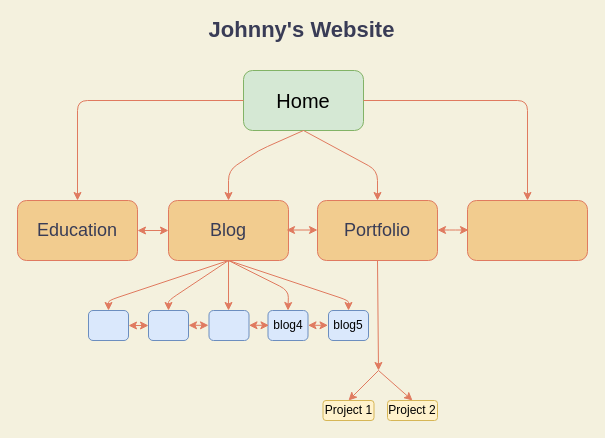
This 605x438 diagram has some shape labels left out. The centre of each missing label's shape, as x and y in pixels:
"blog1" belongs at (108,325).
"blog2" belongs at (168,325).
"blog3" belongs at (228,325).
"Contact" belongs at (527,230).
